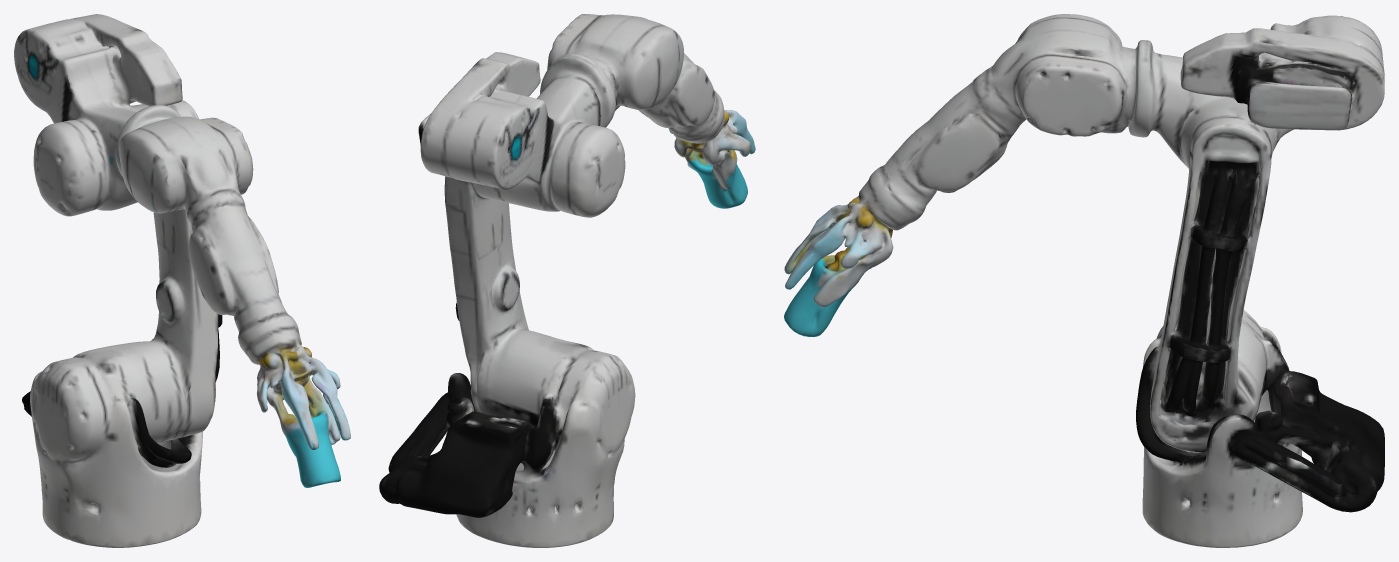
Rendered from robot.glb.
3 renders of one model, left to right at view 1: azimuth 30°, elevation 25°; view 2: azimuth 150°, elevation 25°; view 3: azimuth 270°, elevation 25°, orthographic. The views are drawn at different scales.
Visible parts, largest first — view 1: textured_mesh_690ade560b9a1fd4afbd91af; view 2: textured_mesh_690ade560b9a1fd4afbd91af; view 3: textured_mesh_690ade560b9a1fd4afbd91af.
Boxes of the visible parts, <box> form: textured_mesh_690ade560b9a1fd4afbd91af: <box>14,14,350,547</box>; textured_mesh_690ade560b9a1fd4afbd91af: <box>379,14,755,547</box>; textured_mesh_690ade560b9a1fd4afbd91af: <box>784,14,1384,547</box>.
Bounding box in the file's own units: 0.0509 × 0.1312 × 0.1451.
Materials: 1 (1 with a texture image).
